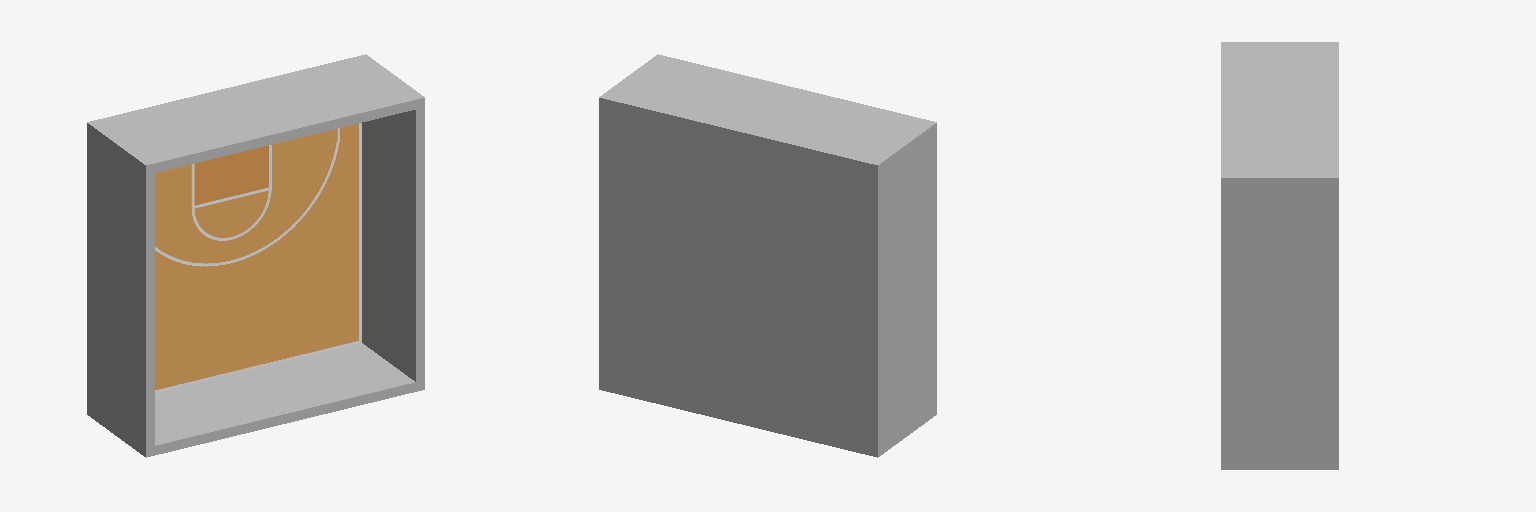
3 views of the same model, side by side, from view 1: azimuth 30°, elevation 25°; view 2: azimuth 150°, elevation 25°; view 3: azimuth 270°, elevation 25° (orthographic).
Parts seen in each view (by area): view 1: mesh10, mesh3, mesh0, mesh8, mesh7, mesh5; view 2: mesh4, mesh3, mesh0; view 3: mesh1, mesh0.
Part boxes in pixels (x1,y1,x2,y2): mesh10: (155,123,361,392); mesh3: (87,123,145,456); mesh0: (87,54,424,164); mesh8: (362,110,415,381); mesh7: (155,343,414,445); mesh5: (146,98,424,457); mesh4: (599,98,877,457); mesh3: (878,123,936,456); mesh0: (599,54,936,164); mesh1: (1221,178,1338,469); mesh0: (1221,42,1338,177).
Size of the model in its own units: 15 by 15 by 5.5.
Materials: 2 (1 with a texture image).